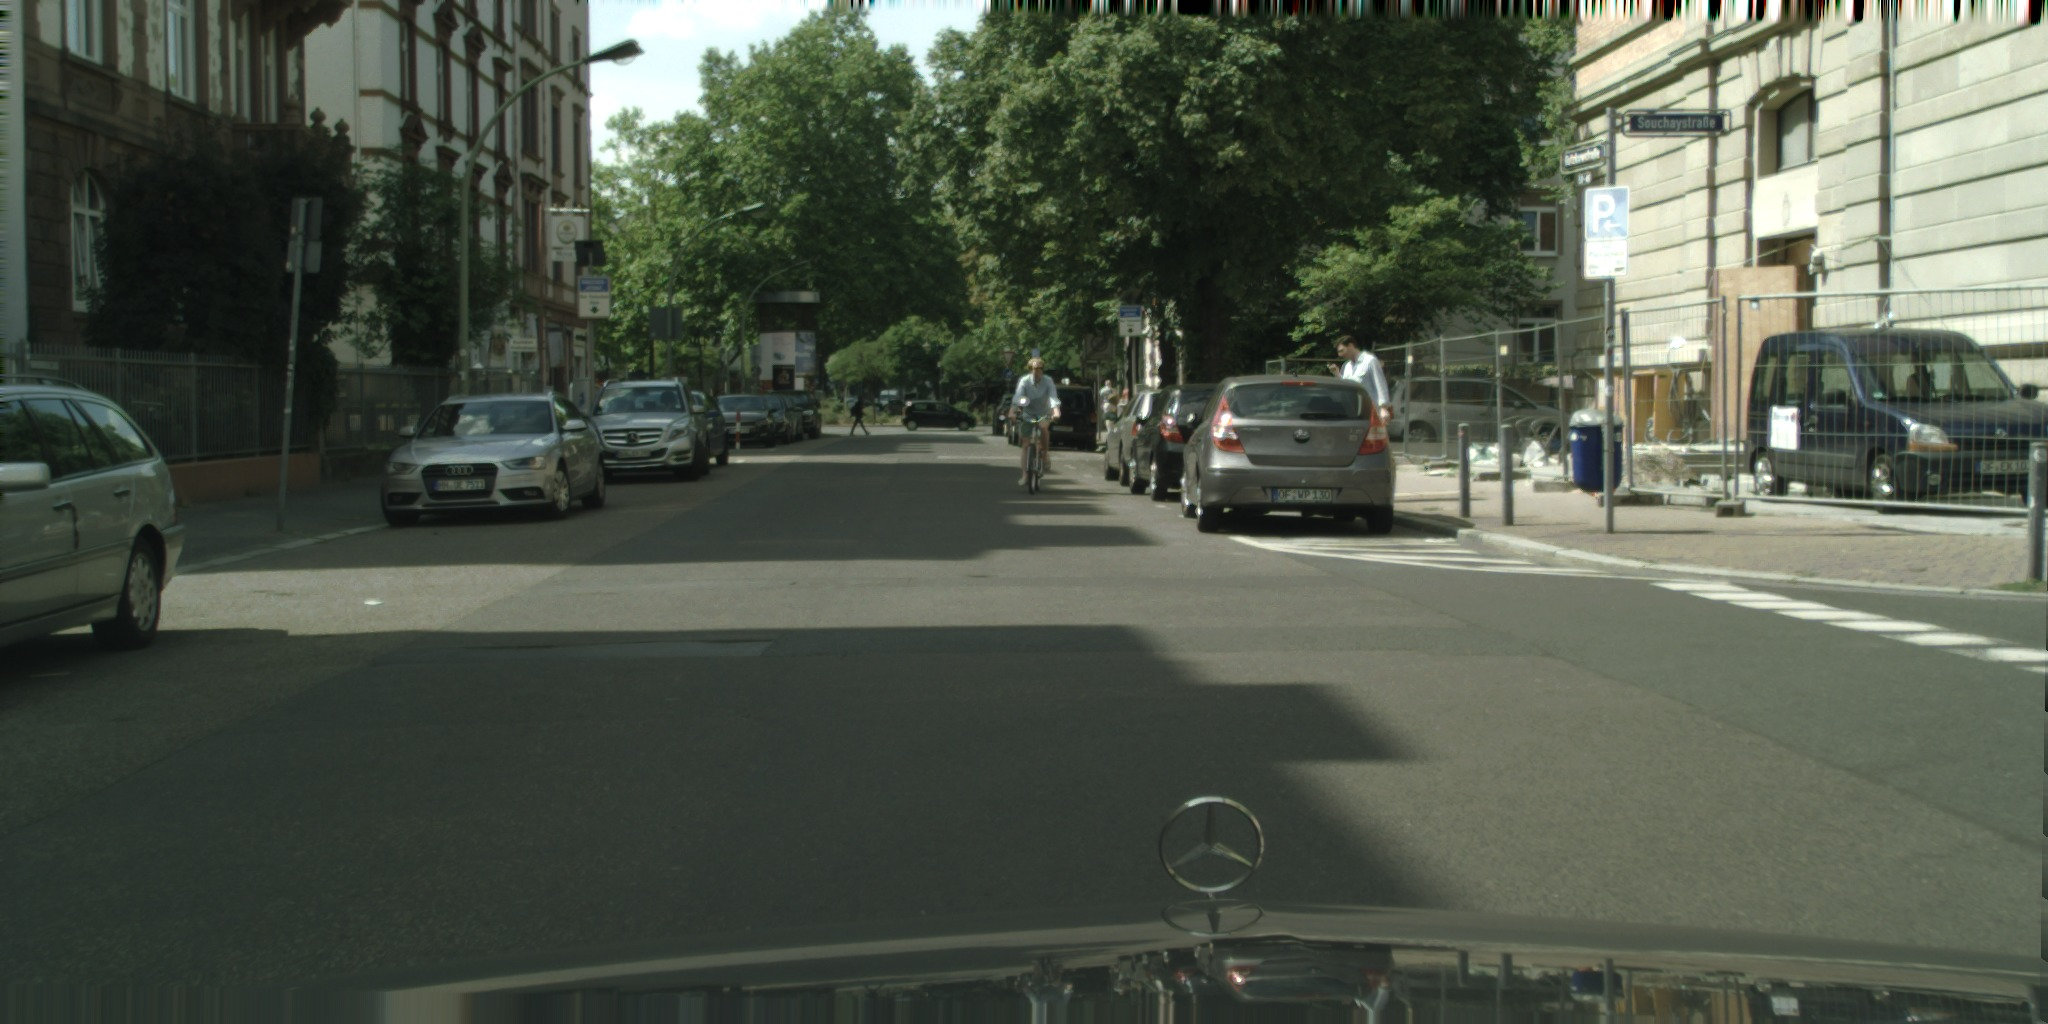bicycle: (1016, 414, 1054, 495)
car: (0, 371, 188, 653), (1179, 367, 1397, 534), (381, 390, 607, 528), (1128, 382, 1255, 501), (583, 375, 708, 482), (1103, 387, 1187, 487), (695, 393, 777, 447), (672, 390, 730, 465), (757, 389, 822, 439), (901, 400, 977, 431), (763, 393, 804, 441), (755, 393, 793, 444), (992, 393, 1038, 435), (999, 406, 1026, 438), (877, 389, 899, 411), (883, 398, 912, 416)
person: (1326, 335, 1391, 441), (1097, 379, 1117, 435), (849, 393, 871, 436)
rider: (1007, 356, 1062, 487)
